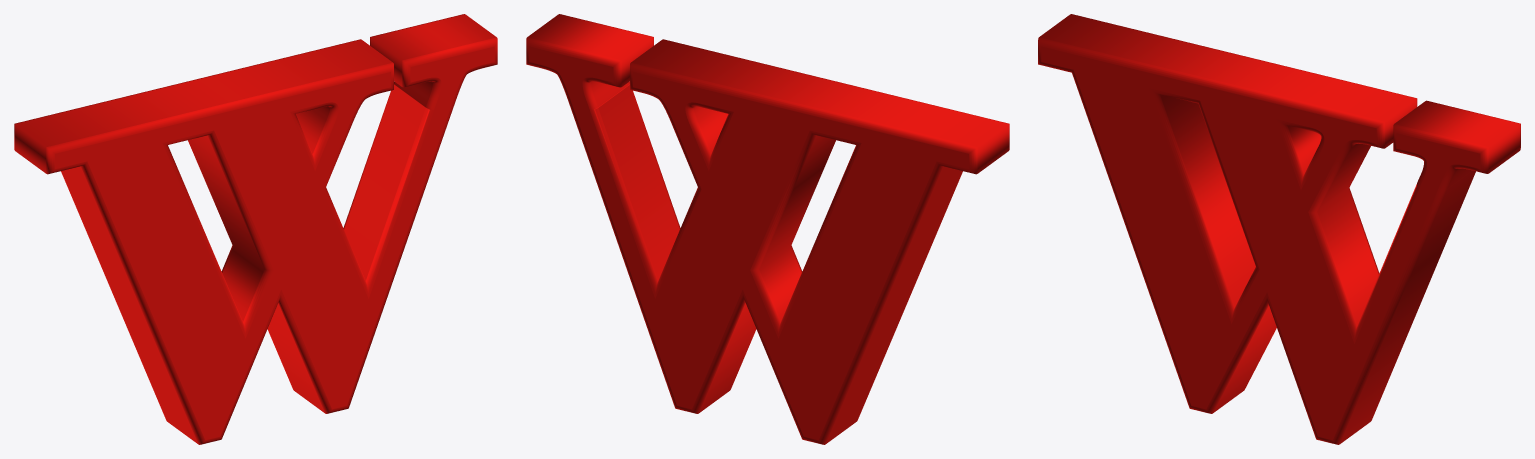
Rendered from capital_w.fbx.
The picture shows the model from 3 angles, left to right: view 1: azimuth 30°, elevation 25°; view 2: azimuth 150°, elevation 25°; view 3: azimuth 330°, elevation 25°; orthographic projection.
Parts seen in each view (by area): view 1: Text; view 2: Text; view 3: Text.
Boxes of the visible parts, x1,y1,x2,y2 form: Text: (14, 14, 497, 444); Text: (526, 14, 1009, 444); Text: (1038, 14, 1520, 444).
Bounding box in the file's own units: 317 × 225 × 45.87.
